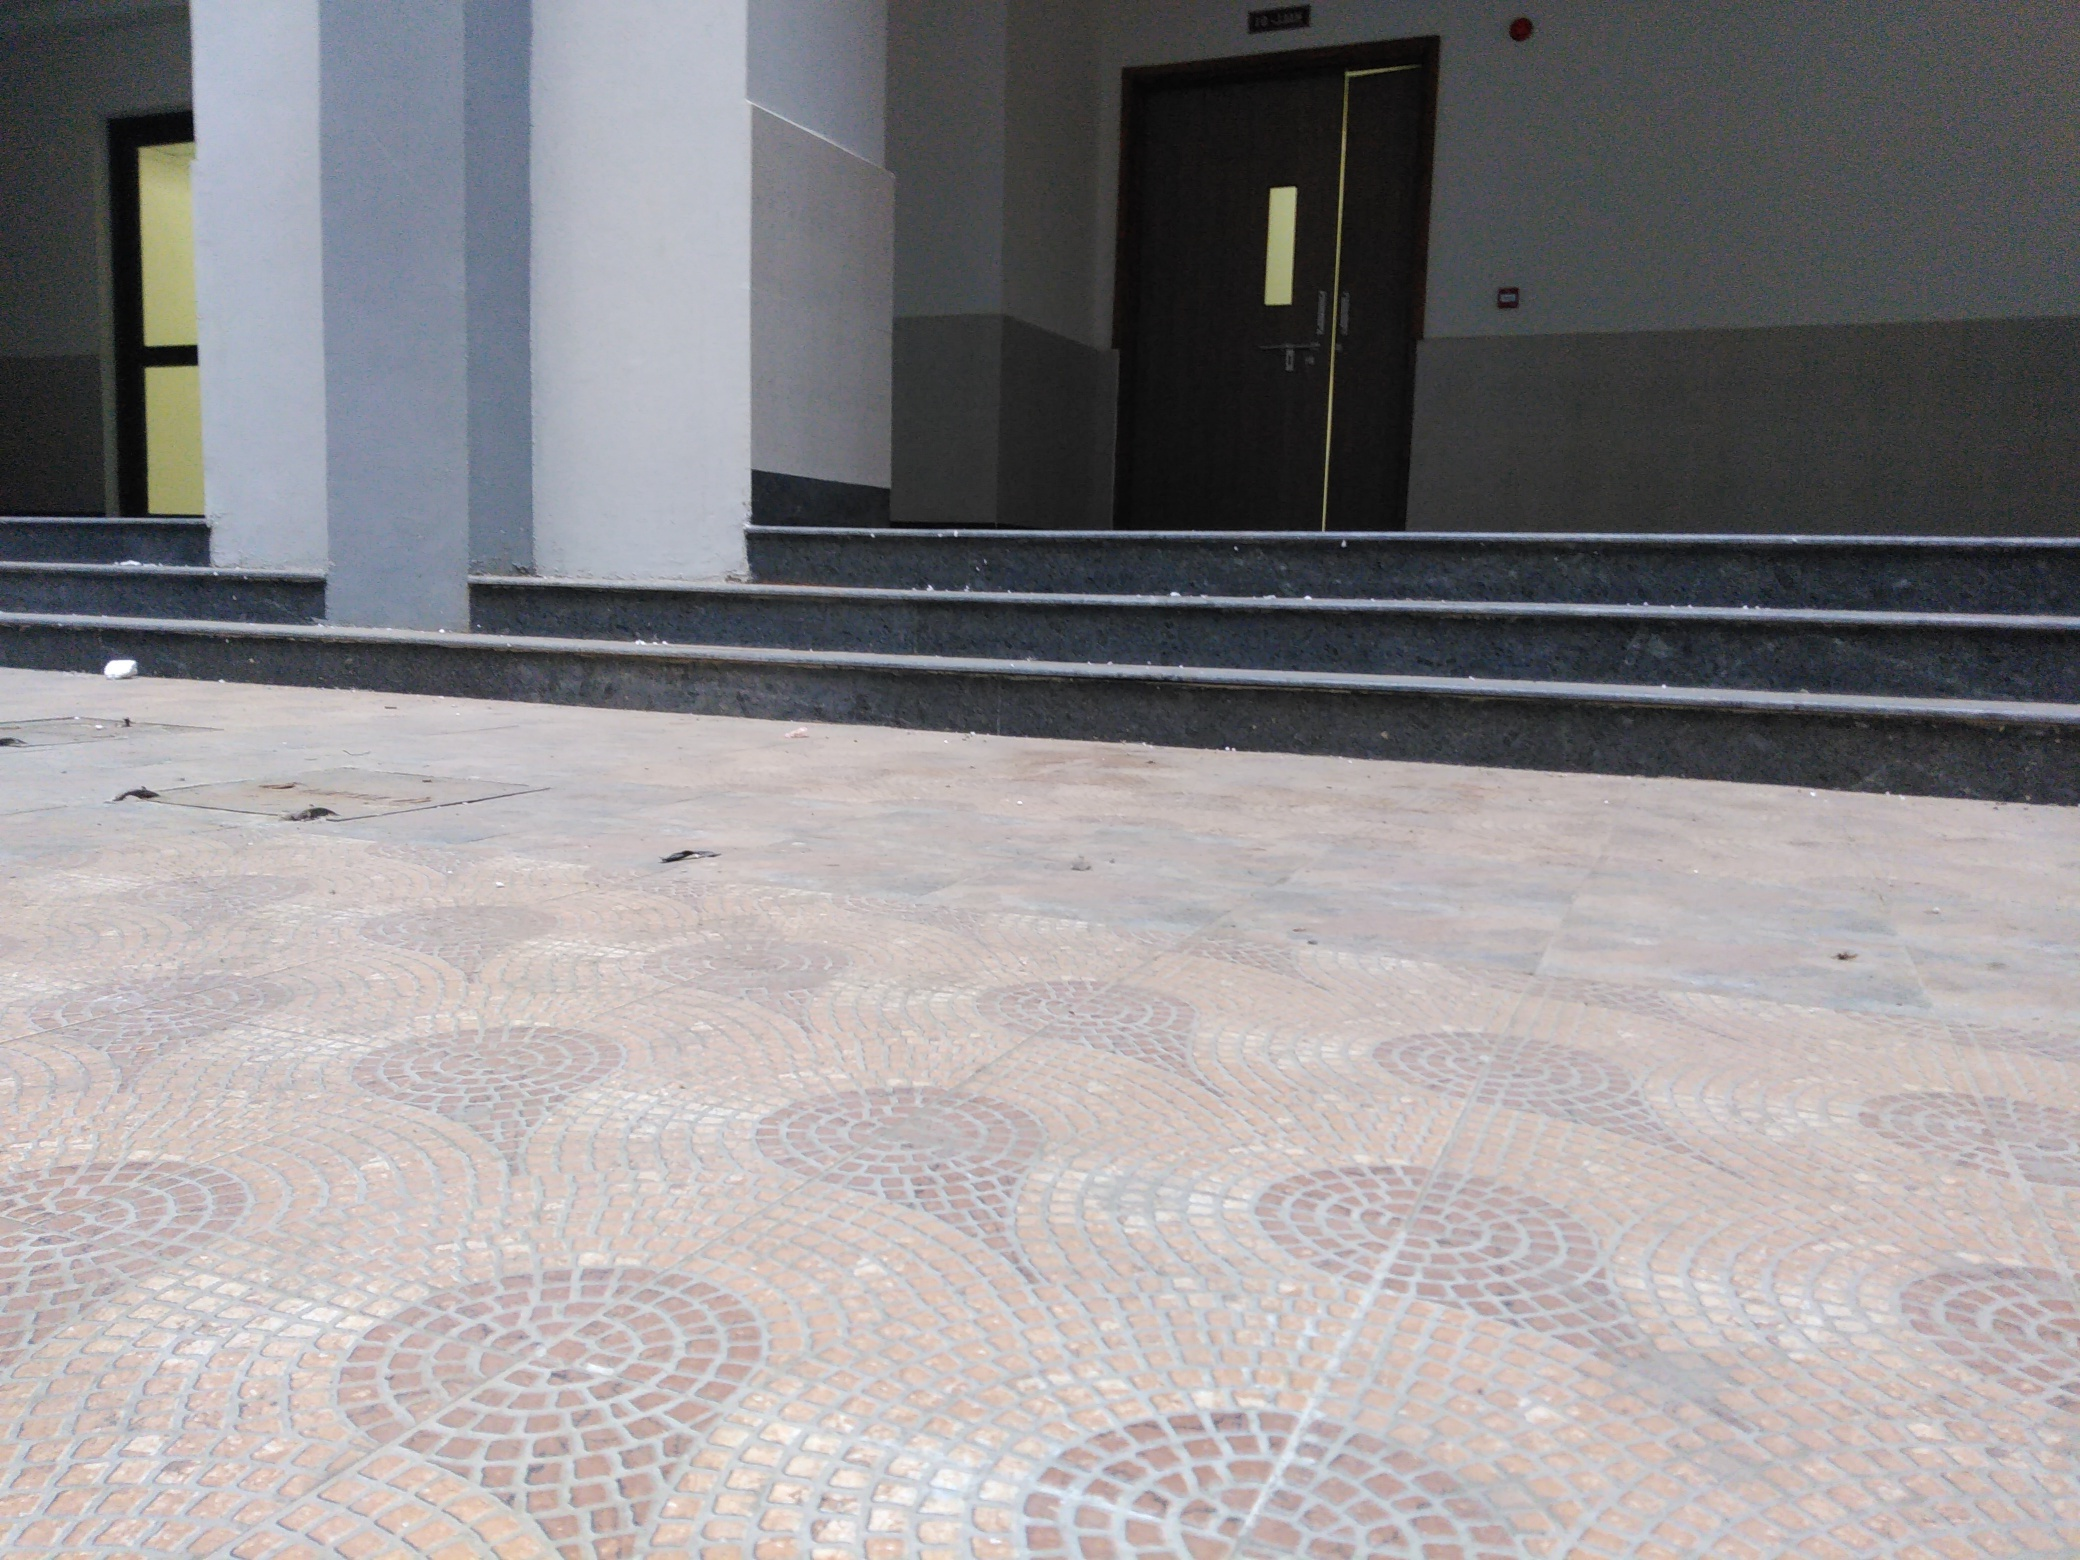stairs_up: (649, 534, 2070, 729), (2, 510, 231, 665)
